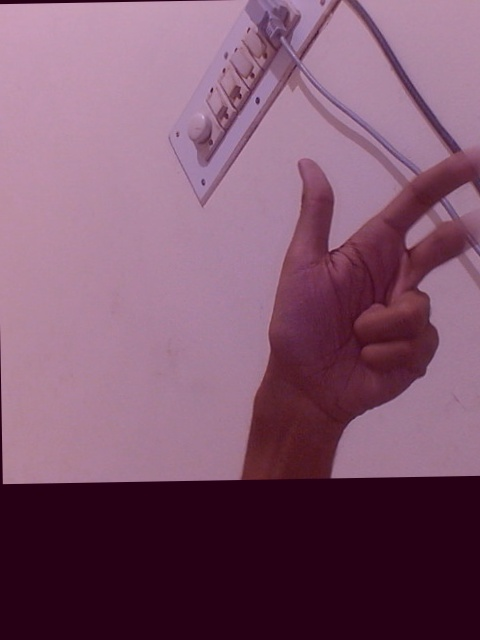hand: (261, 143, 480, 430)
